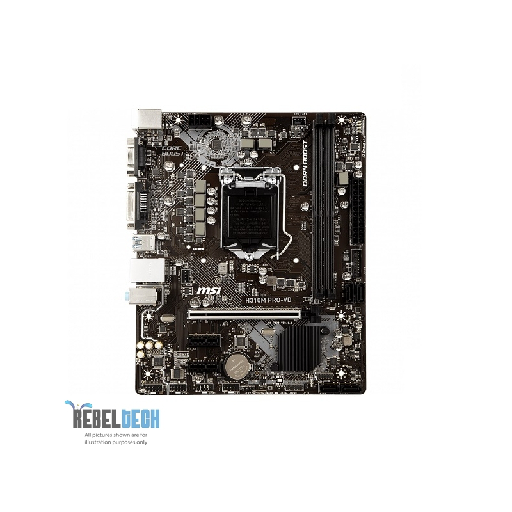CPU: (219, 169, 286, 261)
GPU: (187, 307, 317, 323)
MOTHERBOARD: (126, 108, 367, 396)
RAM: (307, 114, 342, 304)
